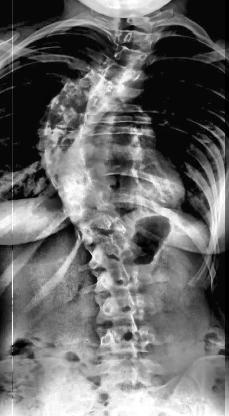Vertebrae: (100, 356, 160, 390), (99, 326, 158, 356), (96, 294, 156, 322), (69, 216, 133, 240), (58, 86, 110, 114), (94, 266, 150, 292), (60, 191, 114, 217), (47, 105, 98, 131), (86, 241, 140, 265), (82, 74, 128, 100), (47, 168, 93, 194), (37, 126, 88, 148), (96, 60, 138, 84), (40, 148, 89, 168), (109, 46, 153, 66), (114, 30, 158, 48)
